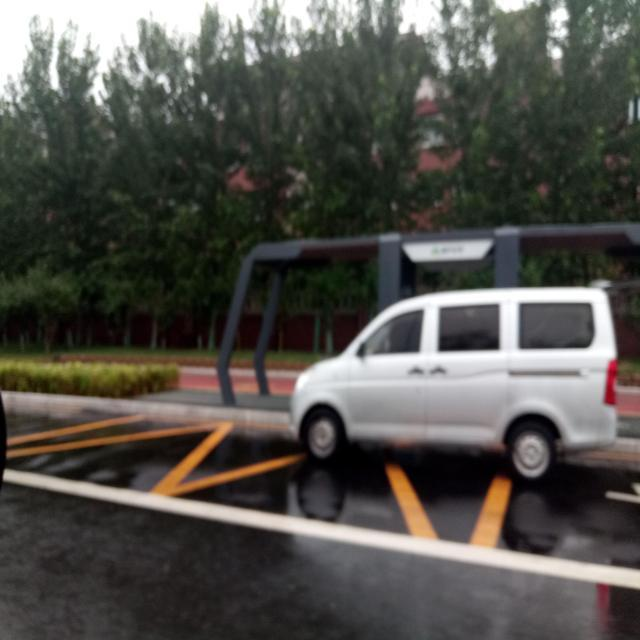car: (291, 288, 624, 480)
